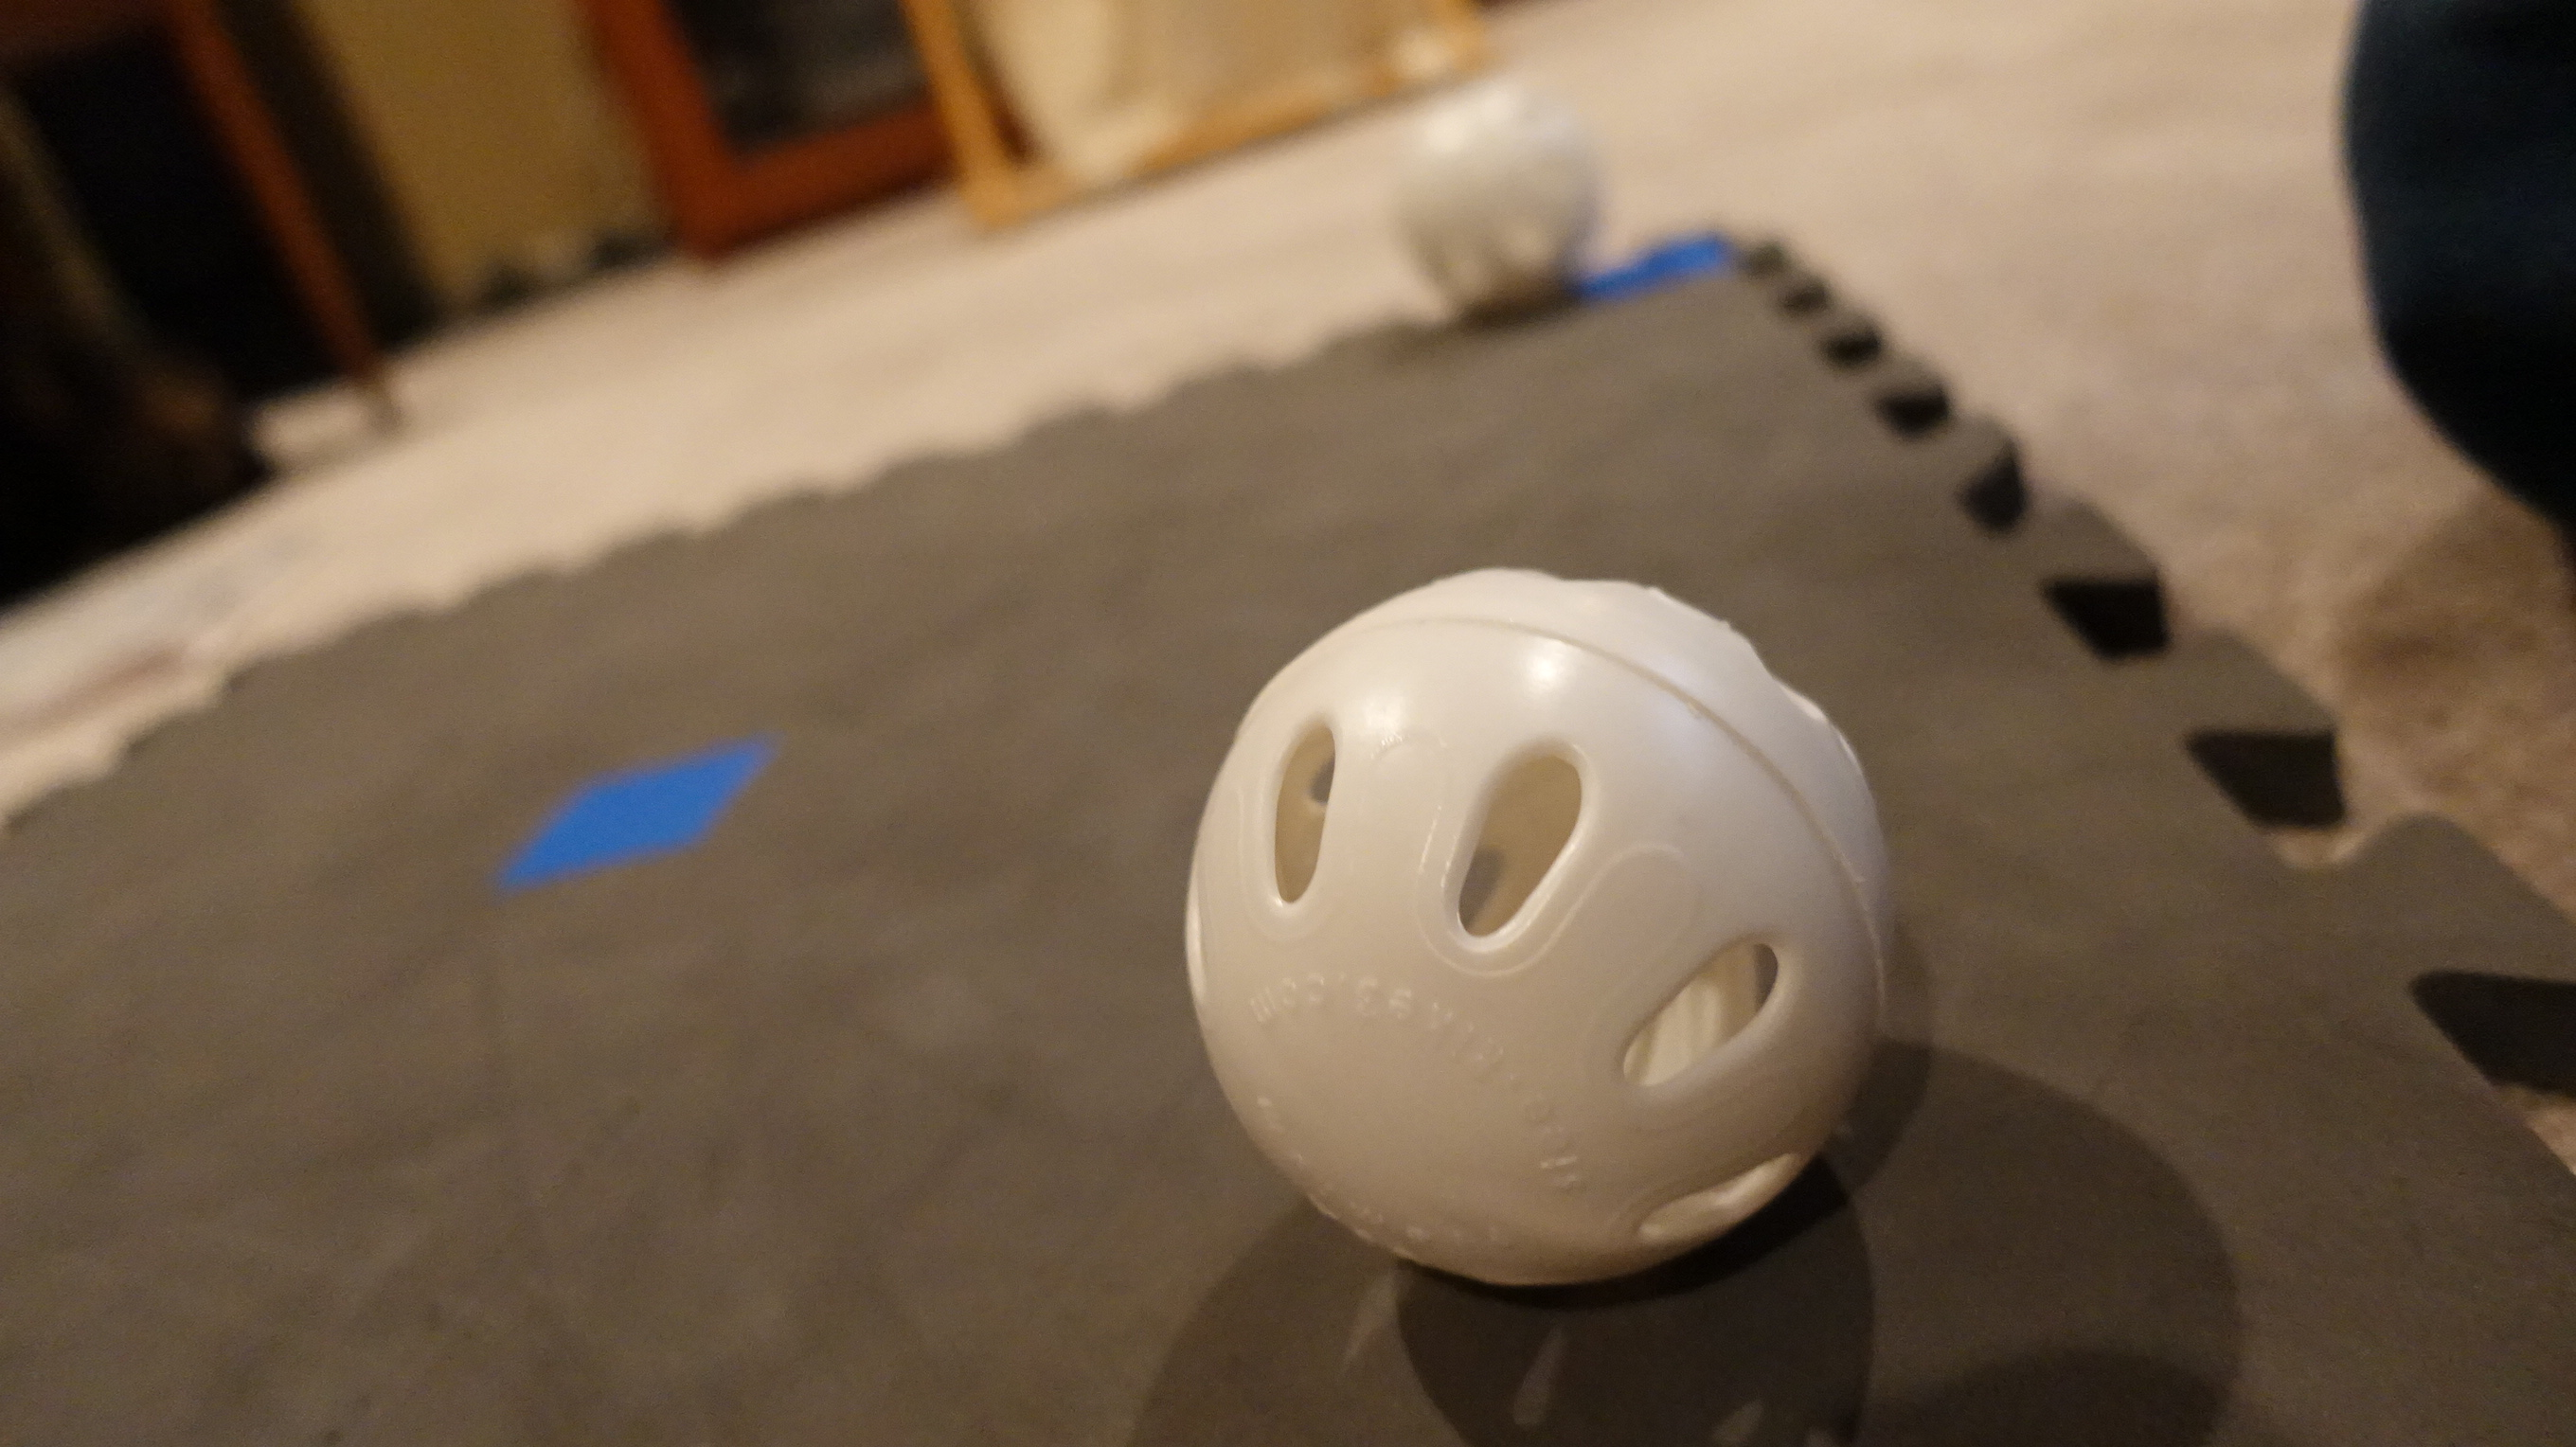silver: (1166, 557, 1909, 1304), (1369, 90, 1626, 320)
